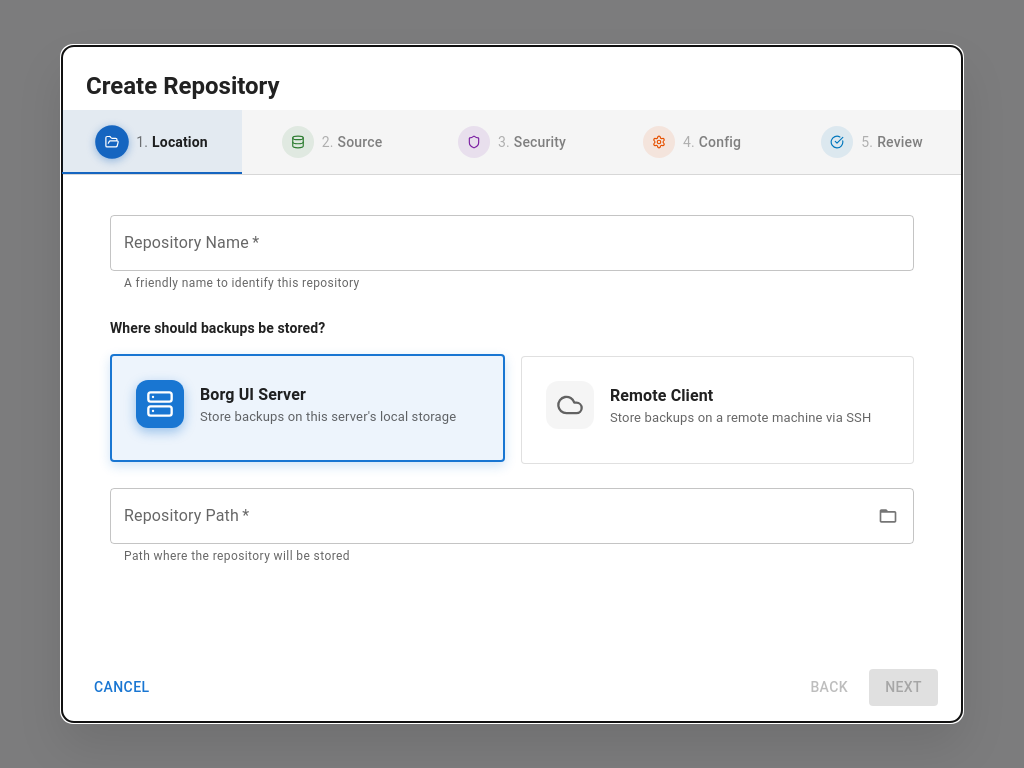
Test: RepositoryWizard › Create Mode › Step 1: Repository Location › shows warning when no SSH connections available
The image size is (1024, 768).
Check: the heading "Remote Client" is shown, box x1=610 y1=386 x2=713 y2=405
Click the button "Remote Client" at (718, 409), box x1=522 y1=357 x2=913 y2=461
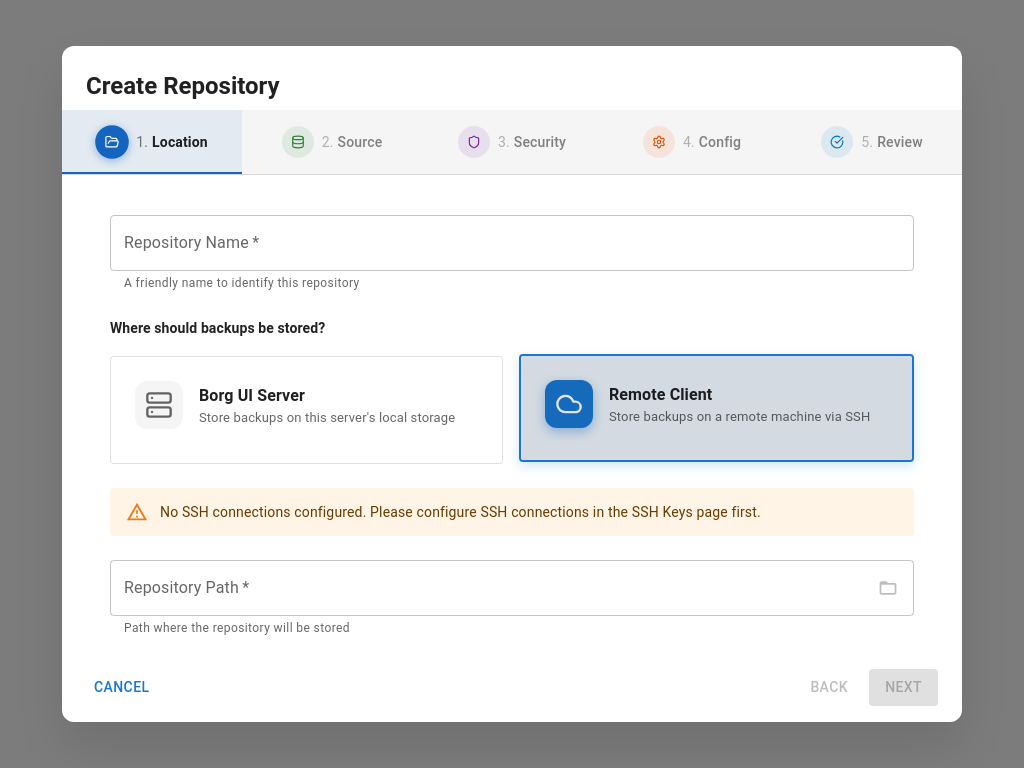
Check: the text "No SSH connections configured" is shown, box x1=160 y1=504 x2=761 y2=520
